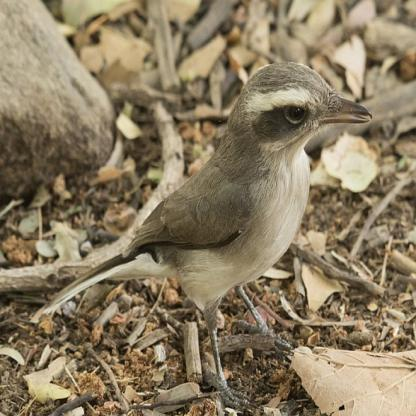Burung: (119, 61, 372, 412)
